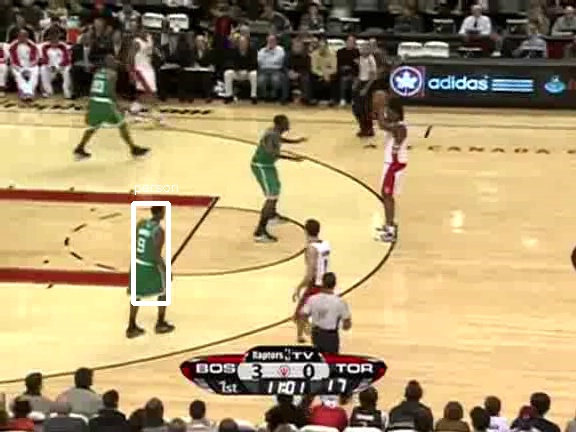person: (132, 219, 166, 300), (131, 219, 165, 300), (133, 219, 167, 300), (132, 218, 166, 299), (132, 220, 166, 301)
target_negative: (45, 87, 491, 126), (533, 54, 576, 390), (314, 301, 453, 372), (236, 135, 408, 163), (139, 378, 159, 382)
